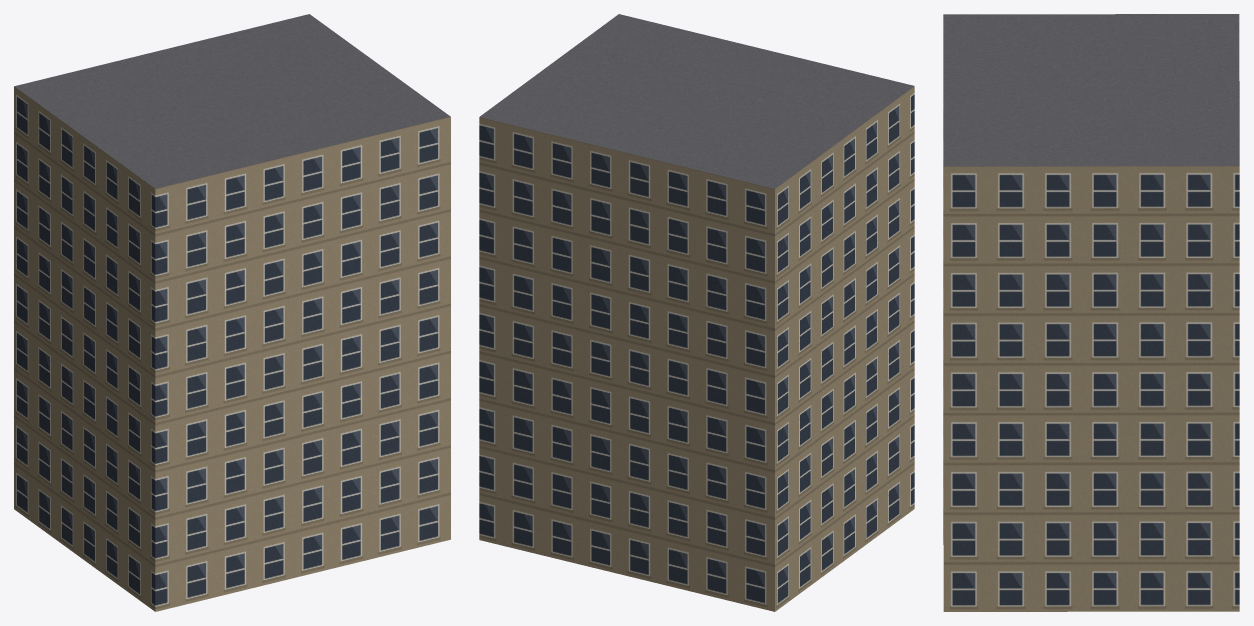
File: bin1016240.glb
The picture shows the model from 3 angles, left to right: view 1: azimuth 30°, elevation 25°; view 2: azimuth 150°, elevation 25°; view 3: azimuth 270°, elevation 25°; orthographic projection. The views are drawn at different scales.
Parts seen in each view (by area): view 1: c2, c0, c1, c8, c6, c5, c7, c11; view 2: c2, c5, c3, c0, c11, c9, c4, c1, c10, c8; view 3: c11, c9, c8, c2, c10, c6, c5, c7.
Part boxes in pixels (left/top/right/bottom): c2: left=14, top=81, right=367, bottom=361; c0: left=14, top=334, right=367, bottom=611; c1: left=14, top=259, right=367, bottom=436; c8: left=282, top=79, right=450, bottom=309; c6: left=367, top=365, right=450, bottom=559; c5: left=37, top=36, right=353, bottom=116; c7: left=367, top=289, right=450, bottom=384; c11: left=221, top=14, right=410, bottom=87; c2: left=702, top=34, right=914, bottom=361; c5: left=568, top=68, right=752, bottom=356; c3: left=568, top=387, right=752, bottom=606; c0: left=752, top=334, right=914, bottom=611; c11: left=479, top=43, right=589, bottom=311; c9: left=479, top=365, right=568, bottom=561; c4: left=568, top=311, right=752, bottom=431; c1: left=752, top=259, right=914, bottom=436; c10: left=479, top=290, right=568, bottom=386; c8: left=579, top=14, right=704, bottom=75; c11: left=1027, top=120, right=1239, bottom=348; c9: left=1027, top=427, right=1239, bottom=611; c8: left=943, top=101, right=1075, bottom=348; c2: left=943, top=14, right=1239, bottom=280; c10: left=1027, top=348, right=1239, bottom=427; c6: left=943, top=427, right=1027, bottom=611; c5: left=1031, top=25, right=1239, bottom=148; c7: left=943, top=348, right=1027, bottom=427.
Size of the model in its own units: 22.98 by 31.34 by 18.9.
Materials: 3 (3 with a texture image).
